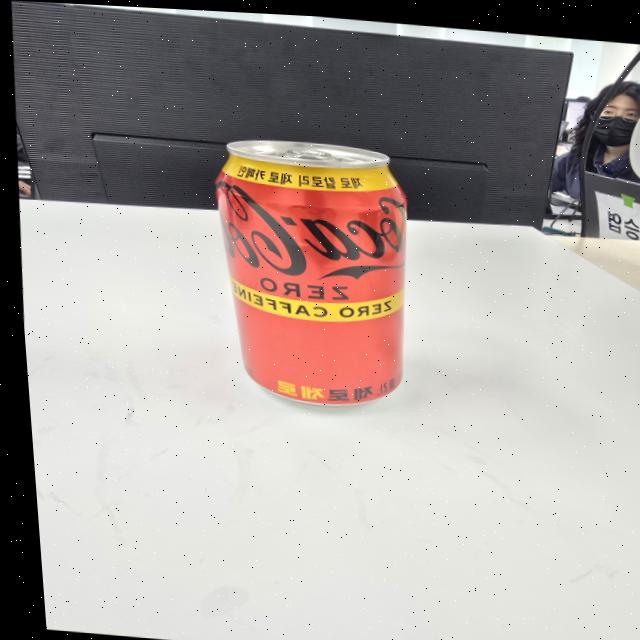can_coke_decaf: (215, 141, 406, 406)
